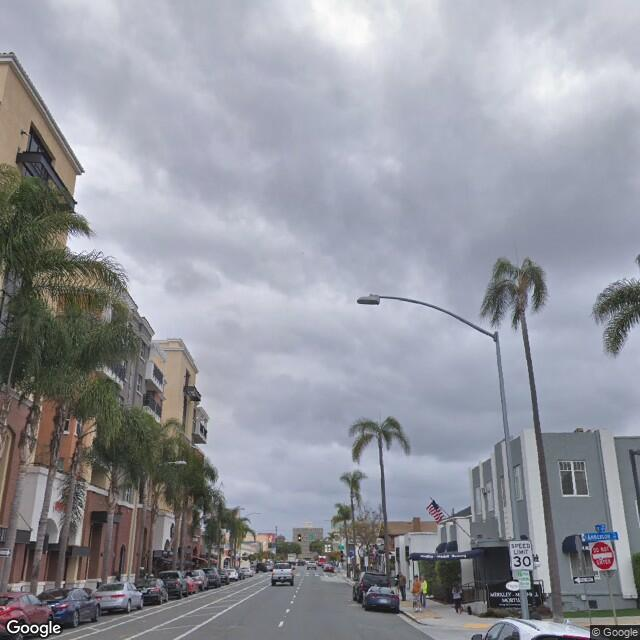light: (355, 292, 384, 305)
window: (555, 451, 591, 498)
